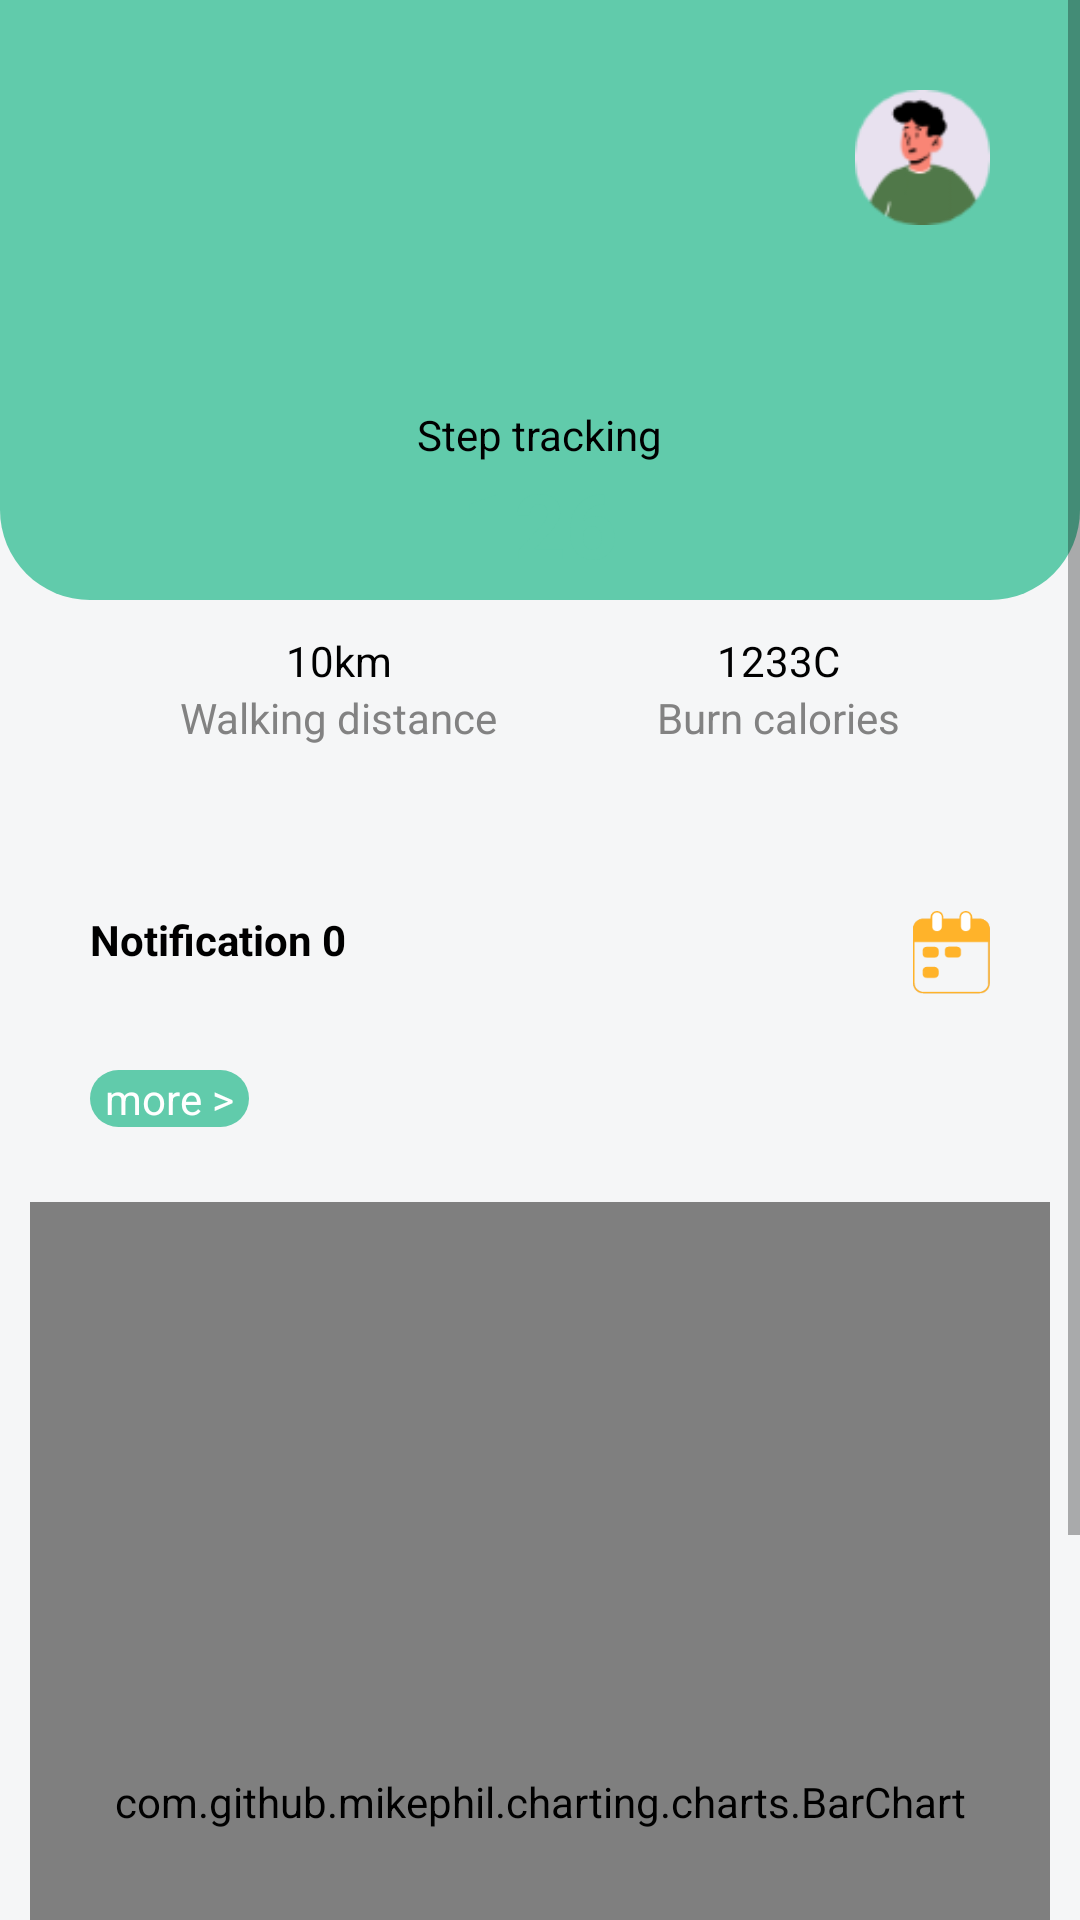

Icon bounding boxes for this 1080x1920 phone screenshot, format region(x1, y1, x2, y2):
avator: region(855, 90, 990, 225)
